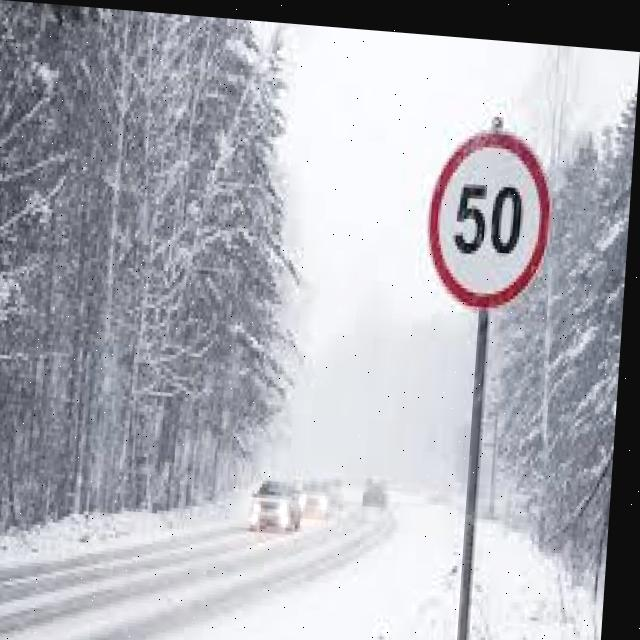Speed limit 50: (423, 108, 562, 307)
